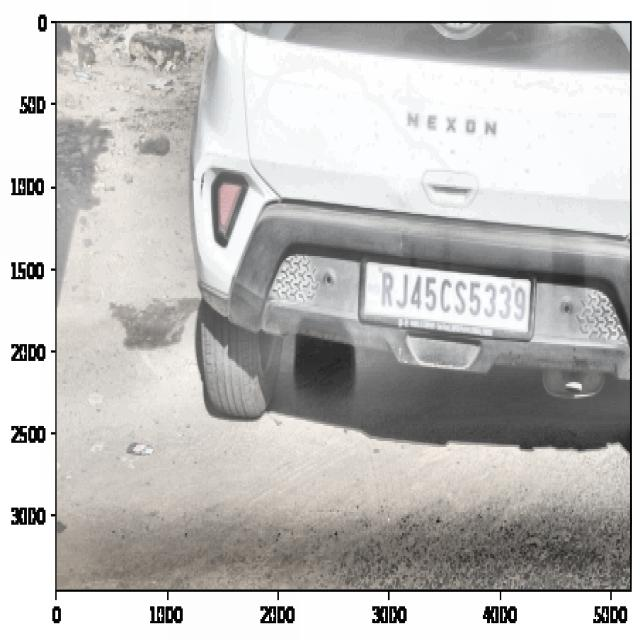license_plate: (376, 260, 530, 332)
